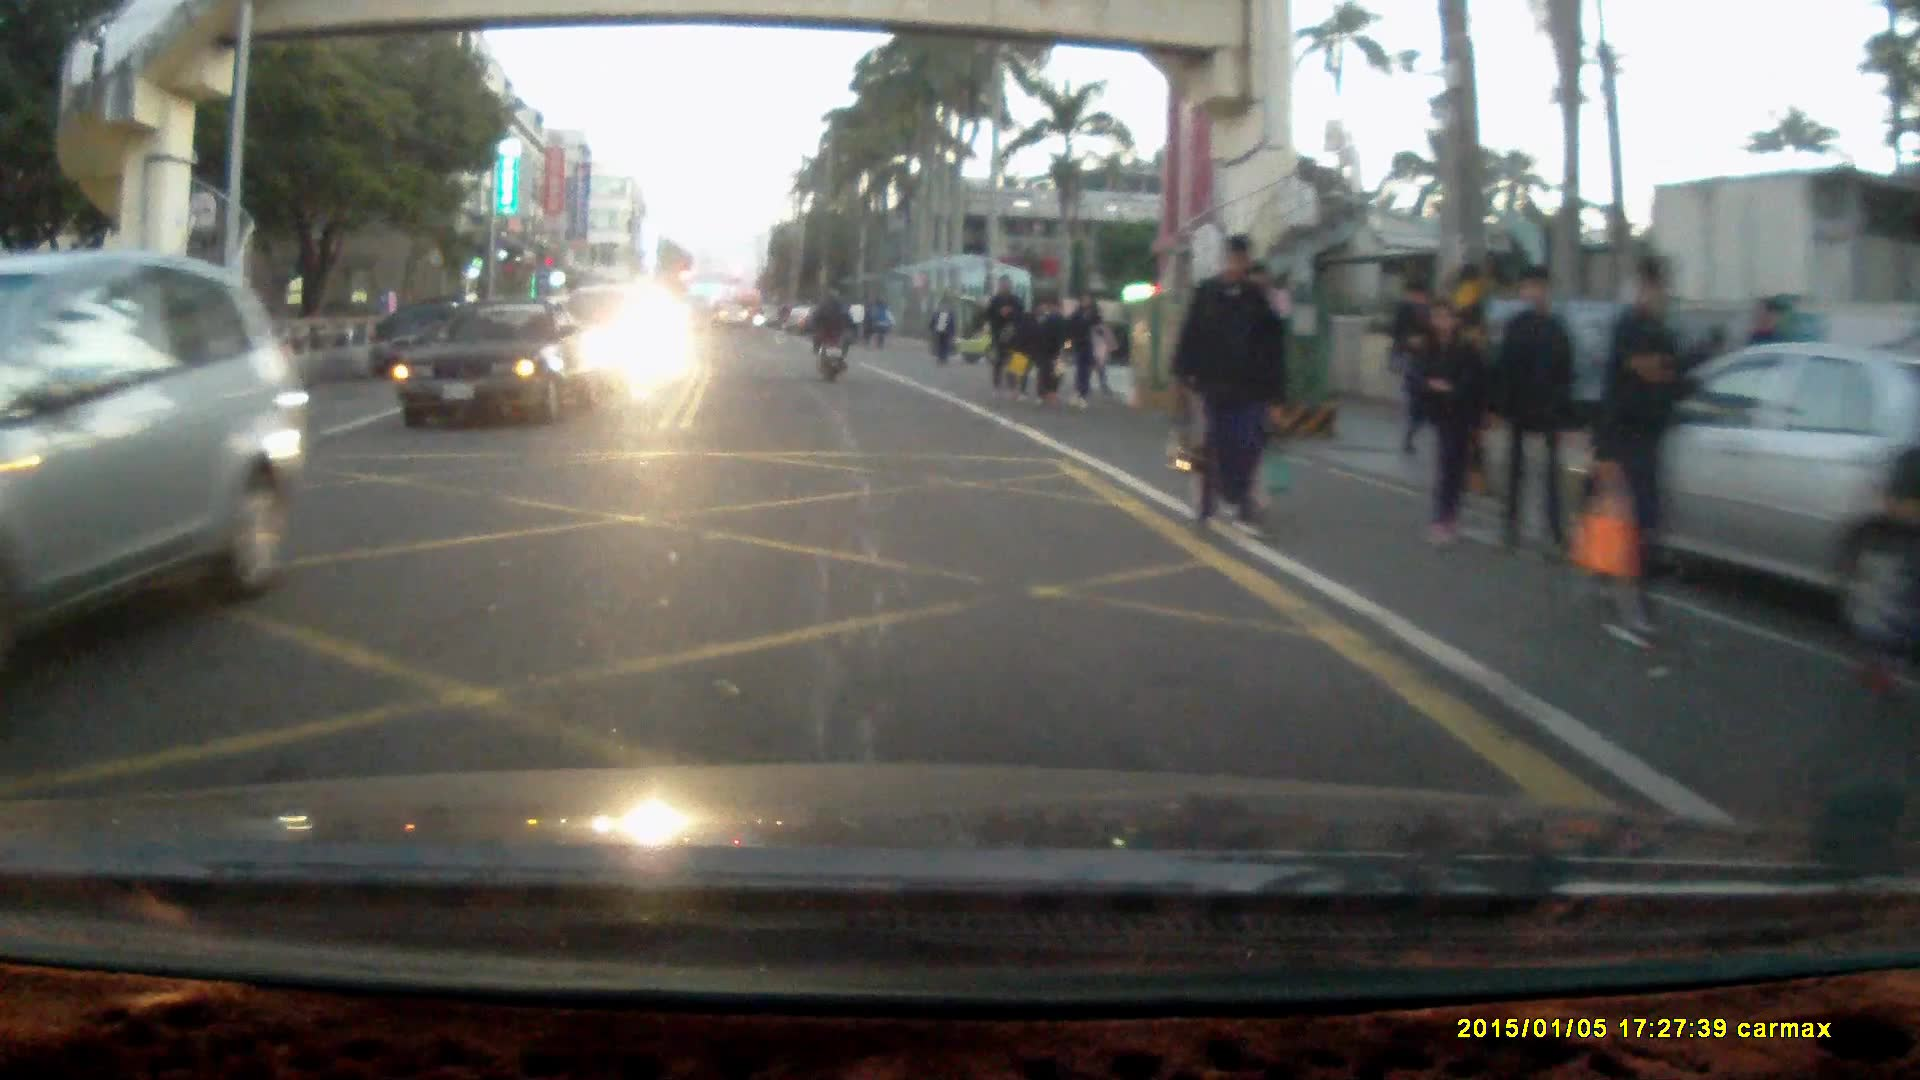pedestrian: (1587, 249, 1698, 653), (1168, 237, 1276, 539), (1487, 266, 1581, 567), (1415, 297, 1492, 554), (1388, 279, 1436, 462), (1060, 289, 1108, 410), (983, 273, 1025, 401), (1020, 296, 1063, 408), (929, 299, 953, 369)
rider: (810, 288, 852, 384)
vehicle: (1, 251, 307, 676), (1551, 337, 1920, 635), (389, 306, 610, 435)
